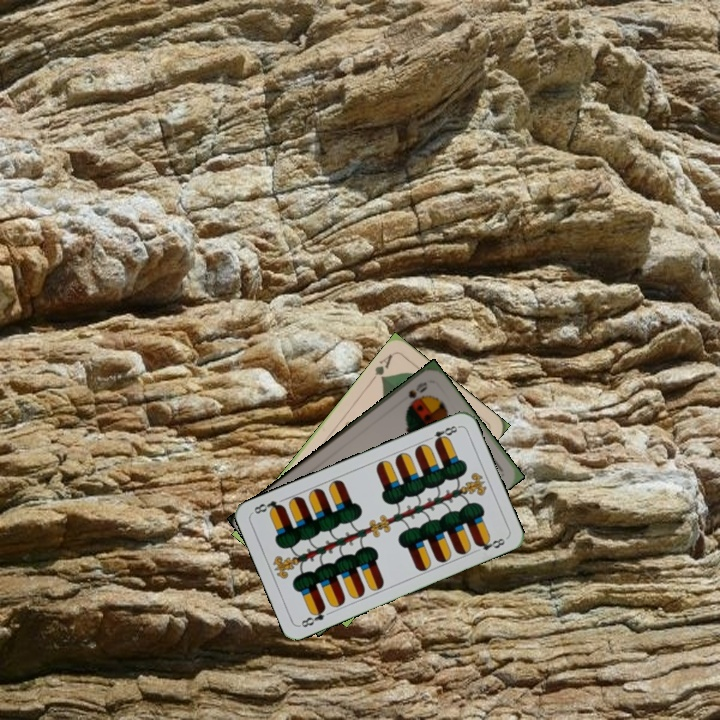E8: (423, 421, 462, 446), (296, 603, 328, 630)
GA: (367, 350, 395, 385)
SO: (404, 377, 430, 401)
